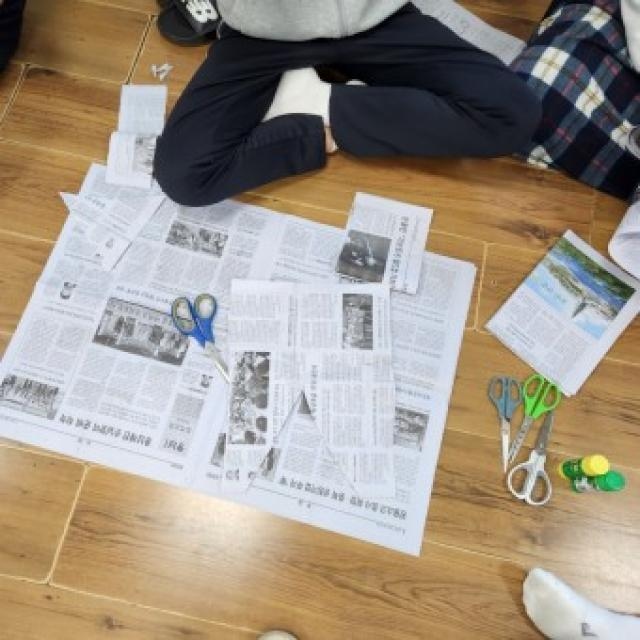Newspaper: (0, 82, 480, 566)
